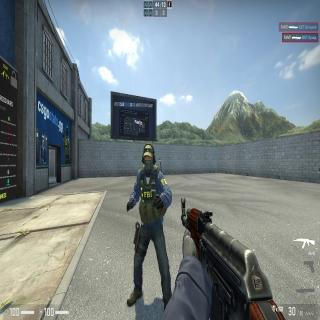CT-Body: (136, 143, 162, 287)
CT-Head: (142, 143, 154, 176)
